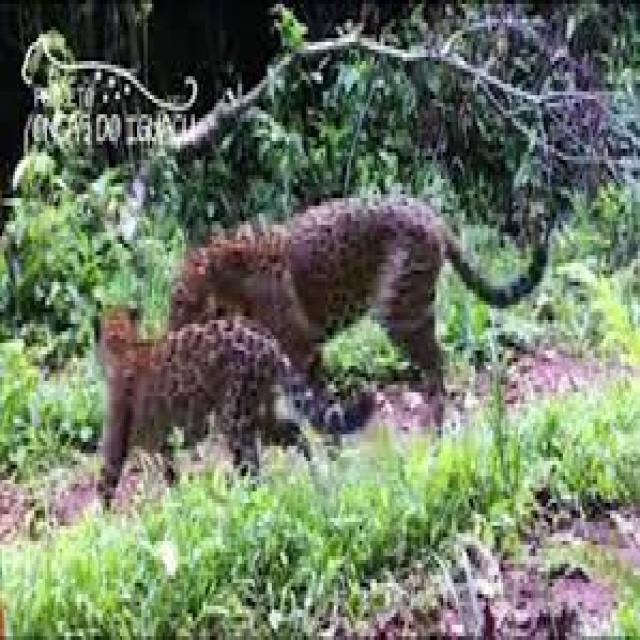Jaguar: (169, 198, 525, 392), (88, 301, 308, 472)
